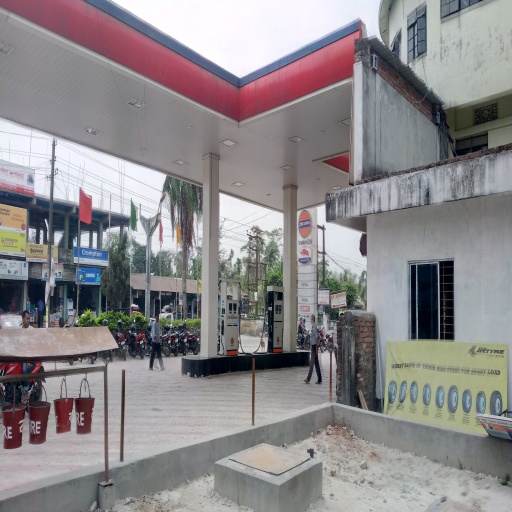roof: (1, 1, 361, 213)
